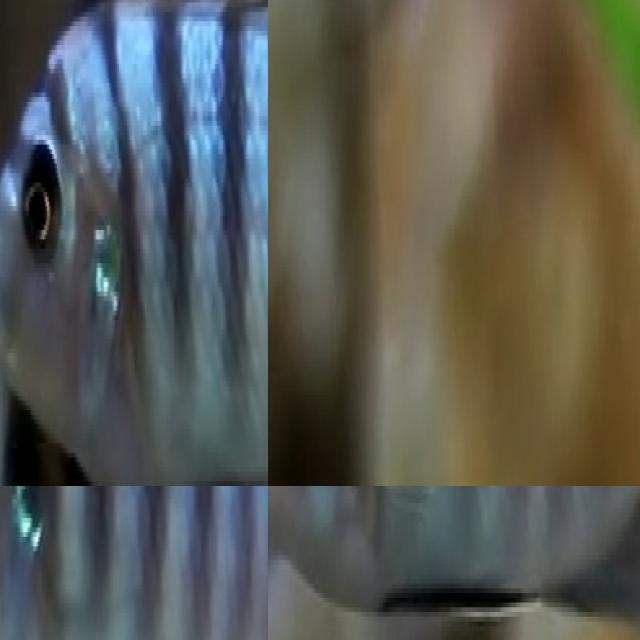fish: (0, 0, 268, 486), (0, 486, 268, 640)
